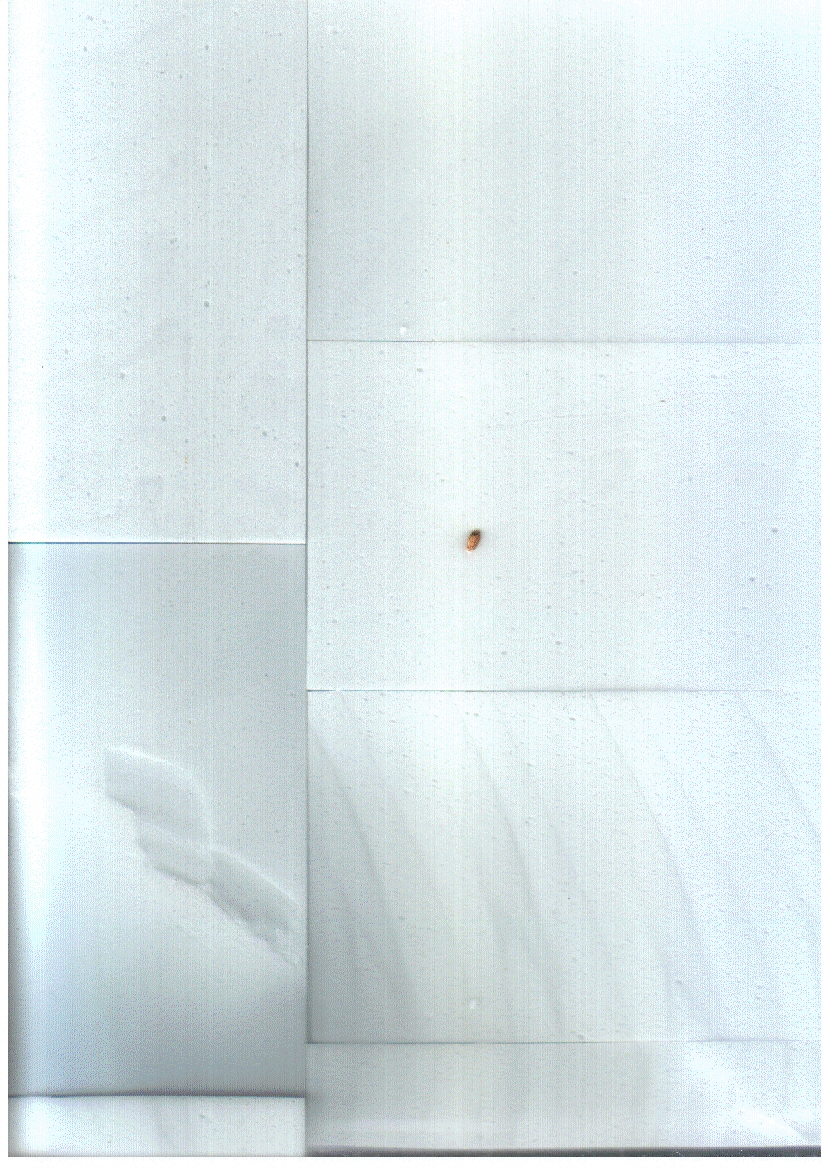grains: (454, 514, 493, 566)
